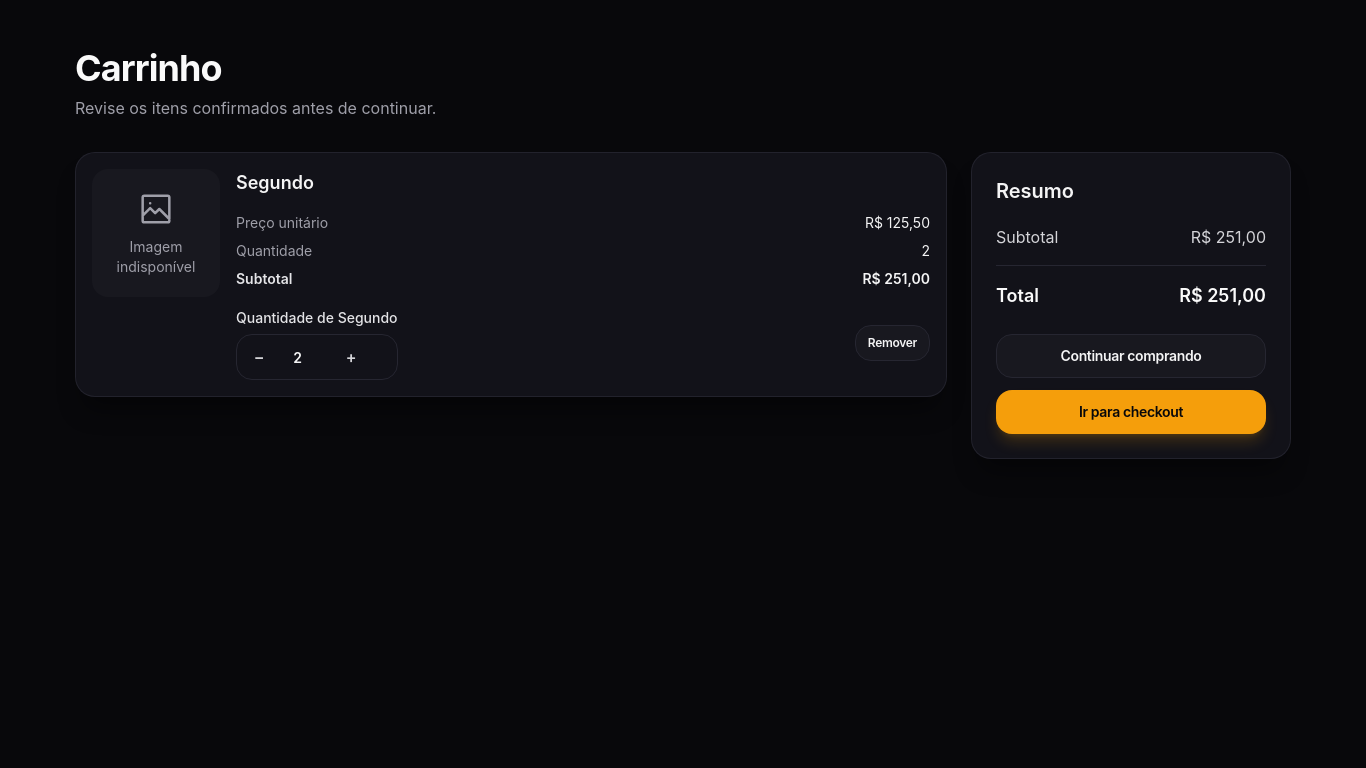
Test case: CartPage › closes, announces success and recovers focus after deletion succeeds
This screenshot has width=1366, height=768.
Click the button with aria-label "Remover Segundo".
click(892, 342)  # box [855,324,930,360]
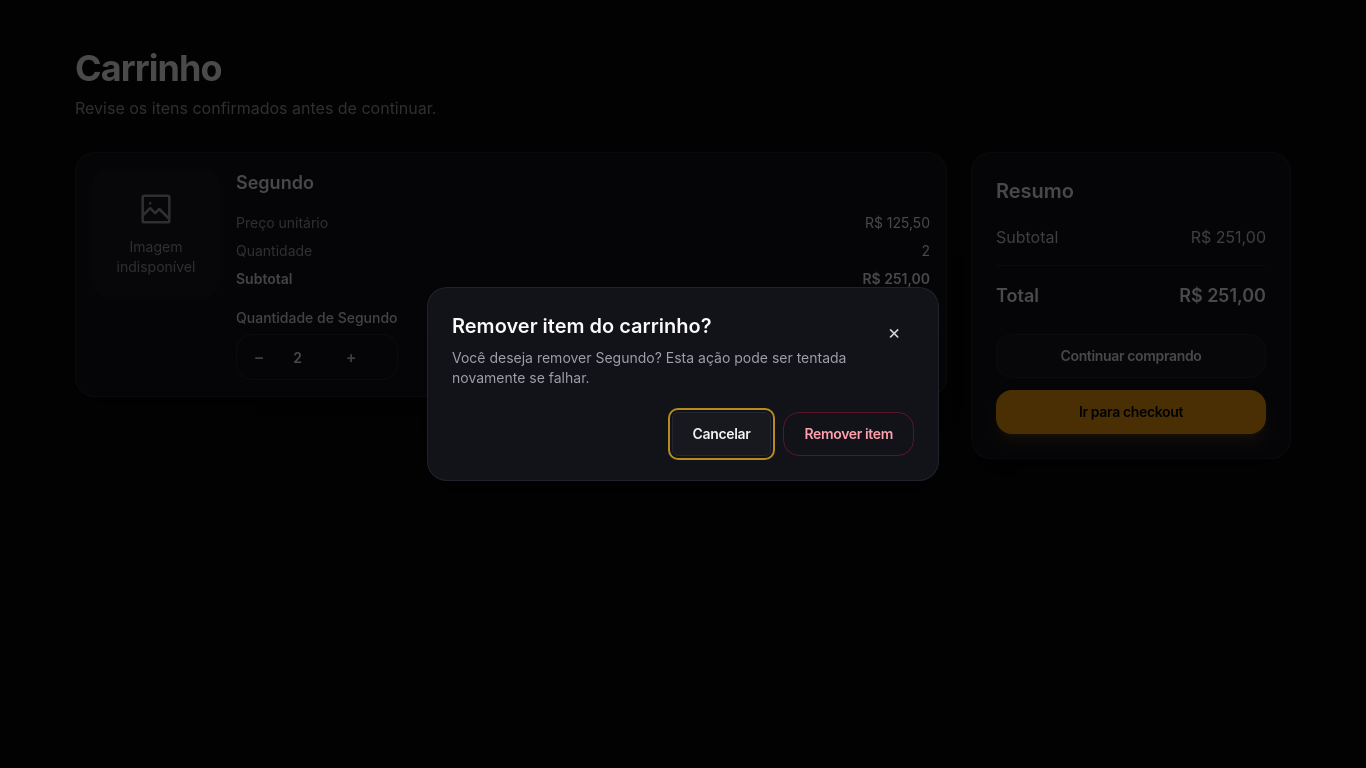
Click the button "Remover item".
click(849, 434)  # box [783,412,914,456]
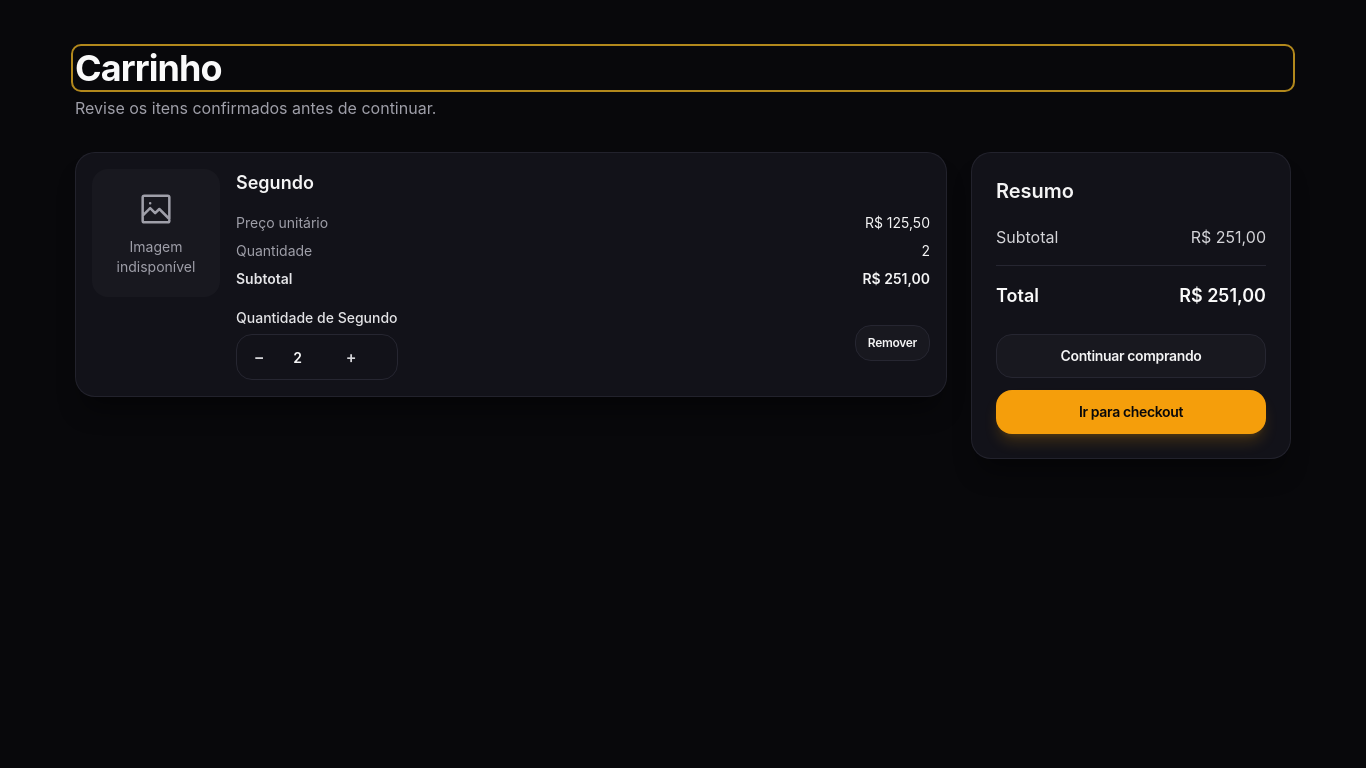
Now the dialog is gone
